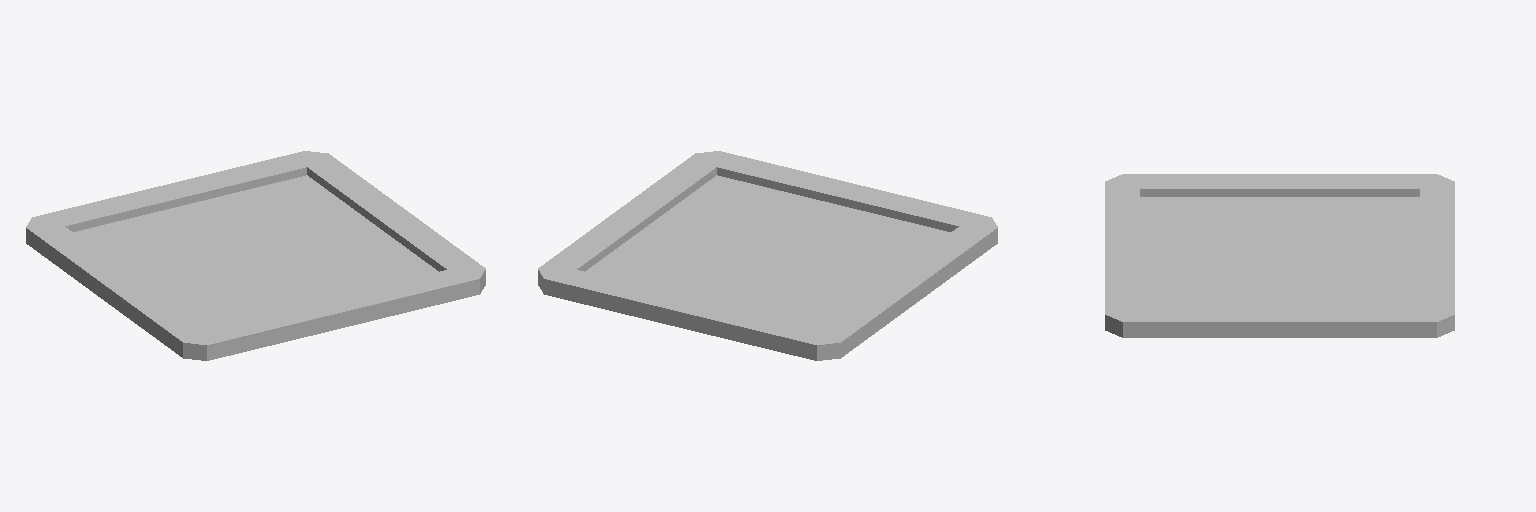
Rendered from paltform-large.obj.
3 views of the same model, side by side, from view 1: azimuth 30°, elevation 25°; view 2: azimuth 150°, elevation 25°; view 3: azimuth 270°, elevation 25° (orthographic).
Parts seen in each view (by area): view 1: platform_large; view 2: platform_large; view 3: platform_large.
Boxes of the visible parts, box(x1,y1,x2,y2) form: platform_large: box(26, 151, 485, 360); platform_large: box(538, 151, 997, 360); platform_large: box(1105, 174, 1454, 337).
Size of the model in its own units: 2 by 0.1 by 2.